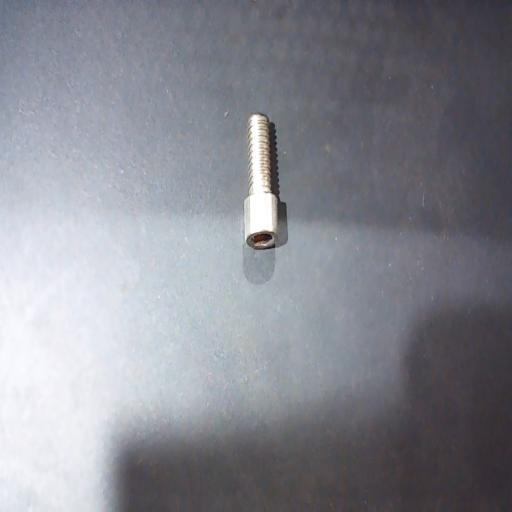screw: (244, 114, 278, 250)
